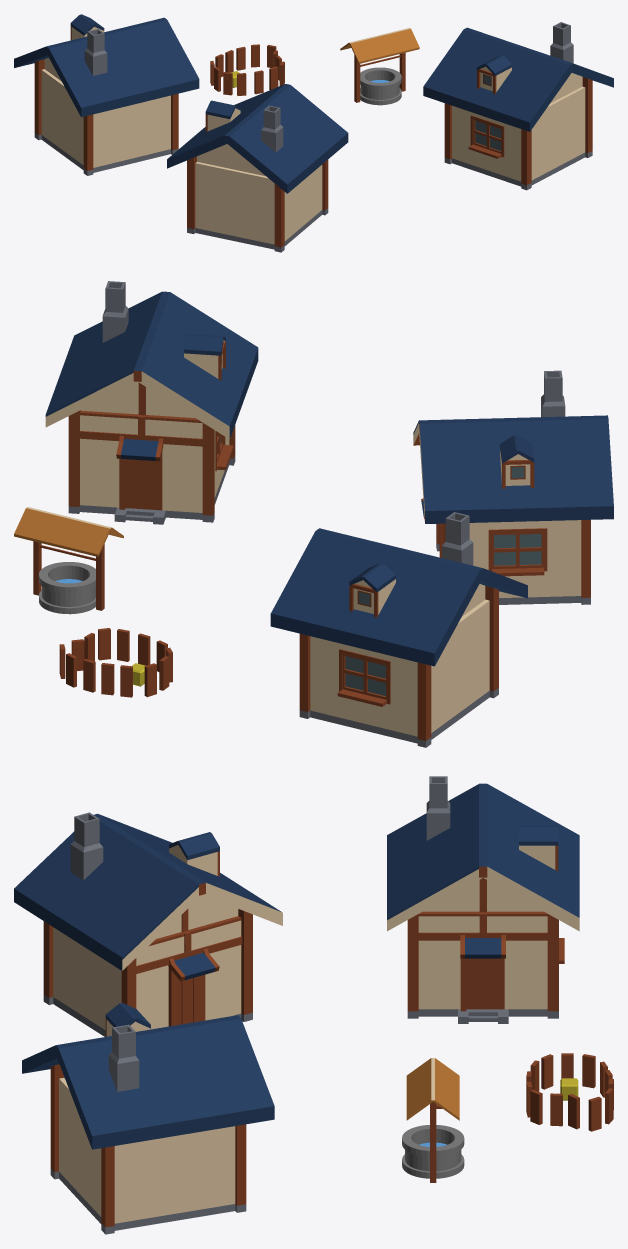
The model's file is House_fbx.fbx.
3 views of the same model, one above another, from view 1: azimuth 30°, elevation 25°; view 2: azimuth 150°, elevation 25°; view 3: azimuth 270°, elevation 25° (orthographic). The views are drawn at different scales.
Parts seen in each view (by area): view 1: 立方体; view 2: 立方体; view 3: 立方体.
Boxes of the visible parts, x1=… form: 立方体: x1=14, y1=14, x2=613, y2=252; 立方体: x1=14, y1=281, x2=613, y2=747; 立方体: x1=14, y1=776, x2=613, y2=1234.
Size of the model in its own units: 365 by 106 by 308.
